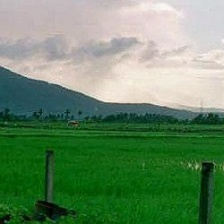neutral: (2, 4, 222, 221)
